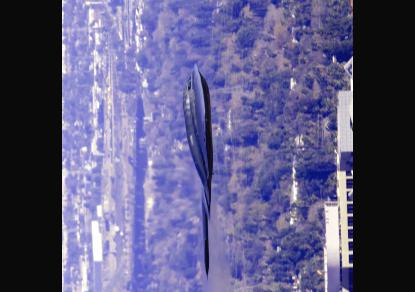B1: (182, 61, 213, 282)
